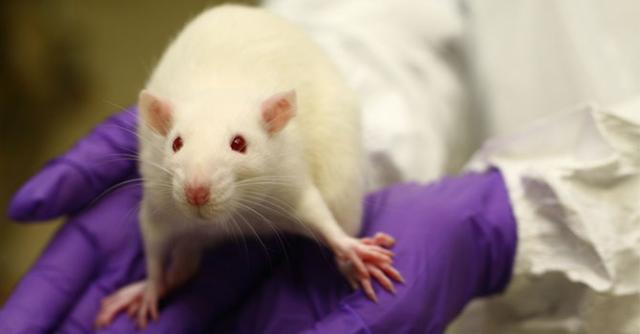rat: (97, 0, 413, 318)
